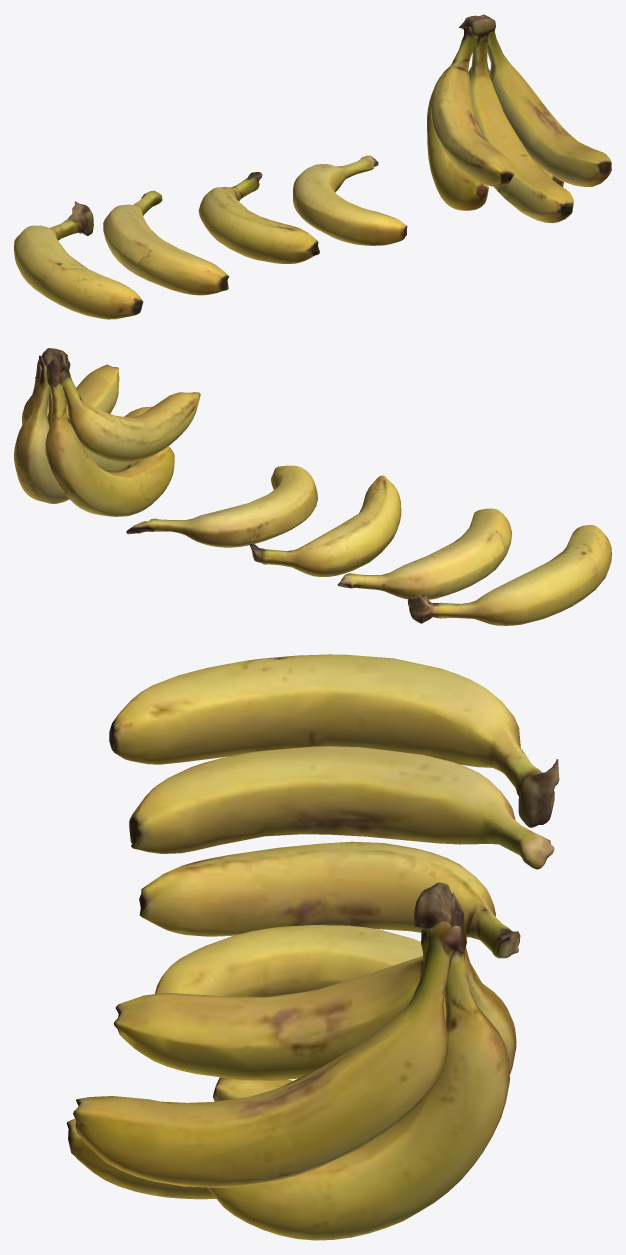
File: bananas.glb
3 renders of one model, top to bottom at view 1: azimuth 30°, elevation 25°; view 2: azimuth 150°, elevation 25°; view 3: azimuth 270°, elevation 25°, orthographic. The views are drawn at different scales.
Parts seen in each view (by area): view 1: bananas_bunch, bananas_d, bananas_c, bananas_a, bananas_b; view 2: bananas_bunch, bananas_d, bananas_c, bananas_a, bananas_b; view 3: bananas_bunch, bananas_d, bananas_c, bananas_b, bananas_a.
Part boxes in pixels (x1,y1,x2,y2): bananas_bunch: [427, 14, 611, 223]; bananas_d: [14, 201, 143, 319]; bananas_c: [103, 190, 229, 295]; bananas_a: [293, 155, 407, 245]; bananas_b: [198, 172, 319, 263]; bananas_bunch: [14, 348, 200, 516]; bananas_d: [407, 525, 611, 625]; bananas_c: [337, 508, 512, 599]; bananas_a: [126, 465, 317, 547]; bananas_b: [249, 475, 401, 576]; bananas_bunch: [66, 882, 516, 1240]; bananas_d: [109, 654, 559, 827]; bananas_c: [129, 746, 554, 869]; bananas_b: [139, 841, 520, 958]; bananas_a: [155, 925, 422, 996].
Bounding box in the file's own units: 0.6 × 0.1787 × 0.244.
Materials: 1 (1 with a texture image).
